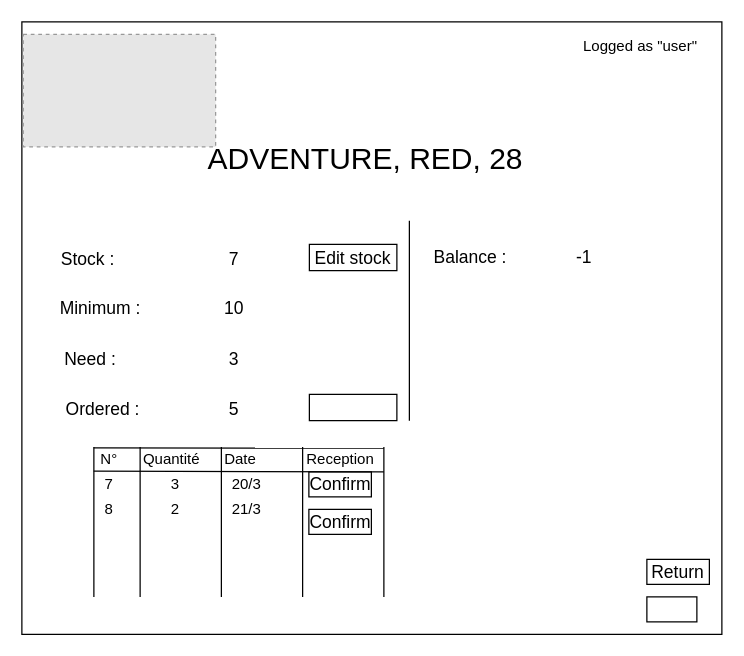
The diagram is 744 pixels wide and 656 high, and some of its shapes have lost their labels. Grey dashed boxes stand in for pictures. Here are the shapes that lost their labels. From the top down, the centre of each, then its label:
At point (352, 407): "Add new".
At point (671, 609): "Close".
